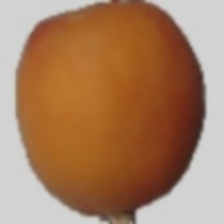apricot: (6, 23, 203, 224)
